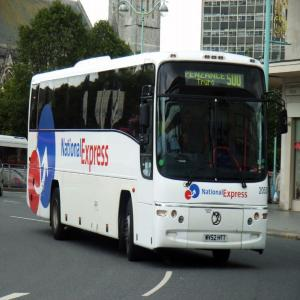Vehicle-registration-plate: (204, 233, 227, 242)
